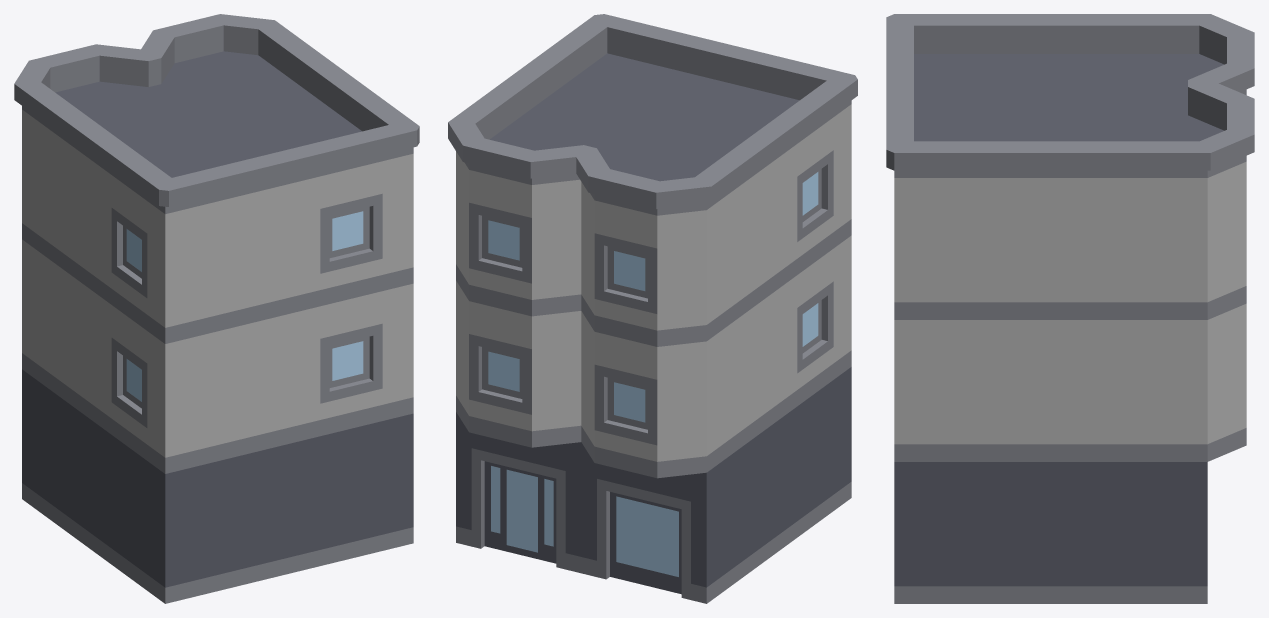
Rendered from small_buildingA.fbx.
3 views of the same model, side by side, from view 1: azimuth 30°, elevation 25°; view 2: azimuth 150°, elevation 25°; view 3: azimuth 270°, elevation 25° (orthographic). The views are drawn at different scales.
Parts seen in each view (by area): view 1: small_buildingA; view 2: small_buildingA; view 3: small_buildingA.
Part boxes in pixels (x1,y1,x2,y2): small_buildingA: (14, 14, 419, 603); small_buildingA: (448, 14, 857, 603); small_buildingA: (886, 14, 1254, 603).
Bounding box in the file's own units: 8.4 × 12.8 × 9.4.
